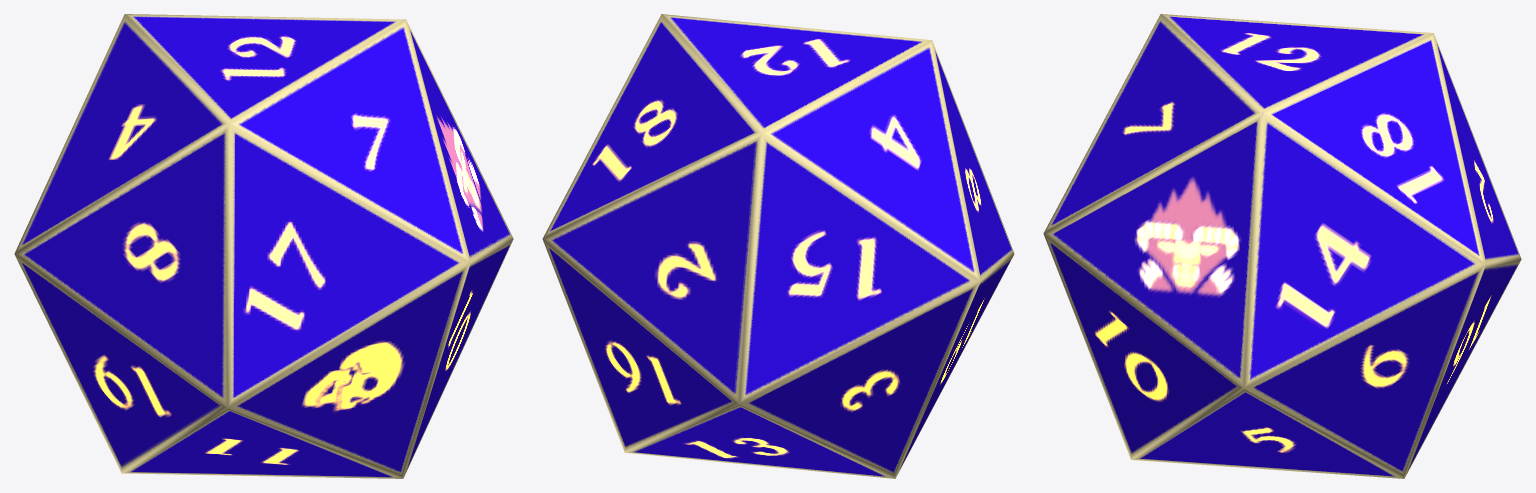
3 renders of one model, left to right at view 1: azimuth 30°, elevation 25°; view 2: azimuth 150°, elevation 25°; view 3: azimuth 270°, elevation 25°, orthographic. The views are drawn at different scales.
Parts seen in each view (by area): view 1: d20_bake; view 2: d20_bake; view 3: d20_bake.
Boxes of the visible parts, left/top/right/bottom form: d20_bake: left=14, top=14, right=513, bottom=478; d20_bake: left=542, top=14, right=1014, bottom=478; d20_bake: left=1043, top=14, right=1521, bottom=478.
Size of the model in its own units: 0.0538 by 0.0452 by 0.05.
1 material, 1 textured.
